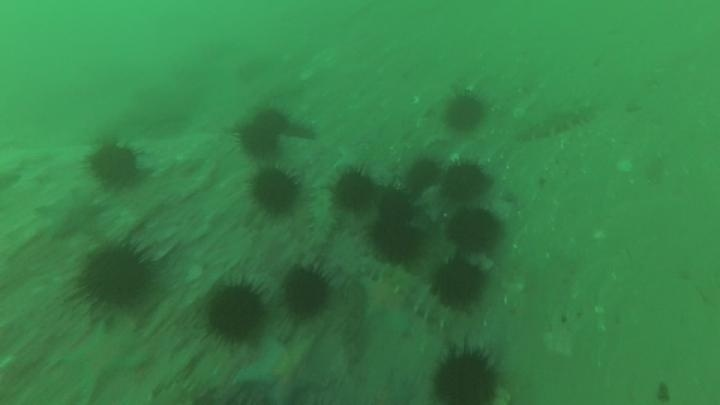echinus: (77, 240, 156, 312), (429, 343, 503, 404), (202, 278, 269, 345), (85, 138, 143, 191), (280, 263, 333, 320), (430, 257, 487, 310), (446, 205, 503, 255), (248, 165, 302, 217), (369, 217, 423, 264), (440, 158, 492, 204), (330, 167, 378, 214), (441, 89, 488, 135), (236, 119, 282, 160), (376, 187, 417, 225), (403, 156, 443, 193), (251, 107, 291, 138), (282, 117, 318, 142)
holothurian: (382, 265, 453, 329), (513, 97, 596, 143), (303, 185, 338, 252)
starfish: (58, 319, 147, 400), (235, 332, 322, 405), (35, 188, 106, 242), (355, 274, 411, 332)
